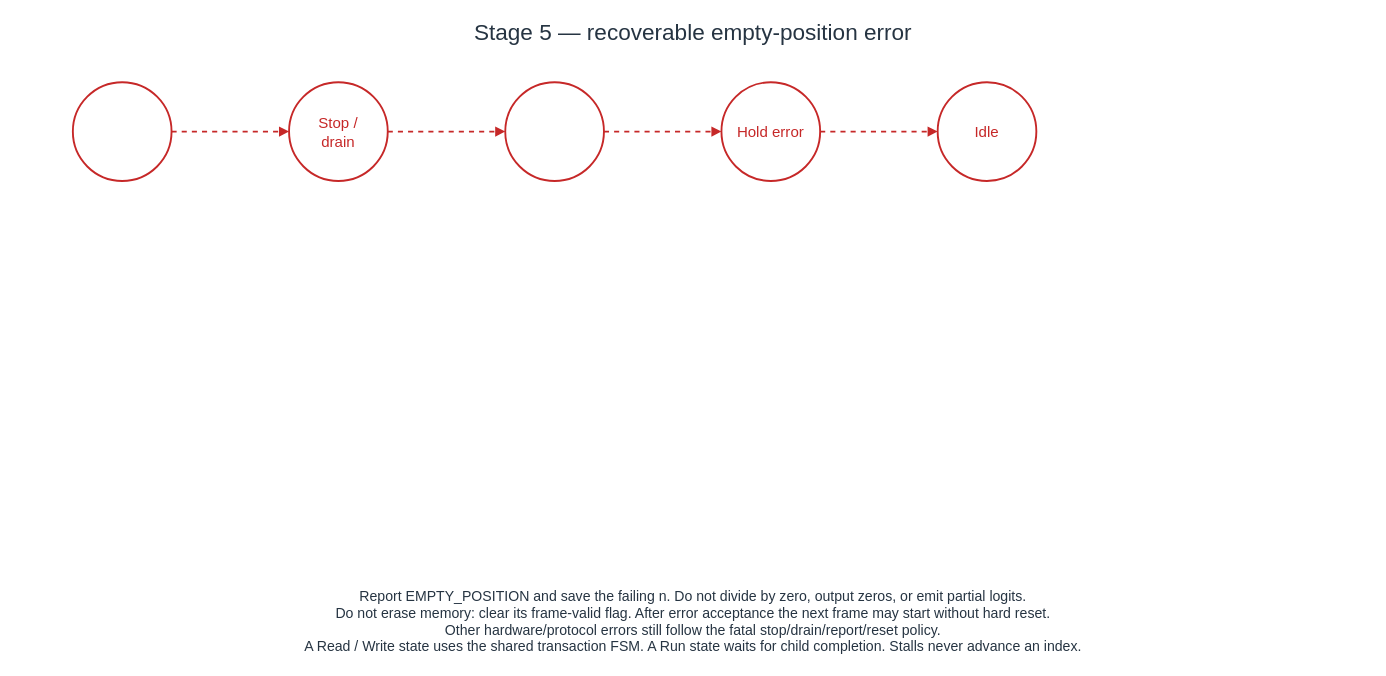
Image size: 1386x676. Some labels were removed from this diagram. The shapes that lost their labels are listed below. From the top down, each one's box as (x1, y1, x2, y2) in pixels, then its label:
(71, 81, 172, 181): Empty Cₙ detected
(504, 81, 604, 181): Invalidate whole frame
